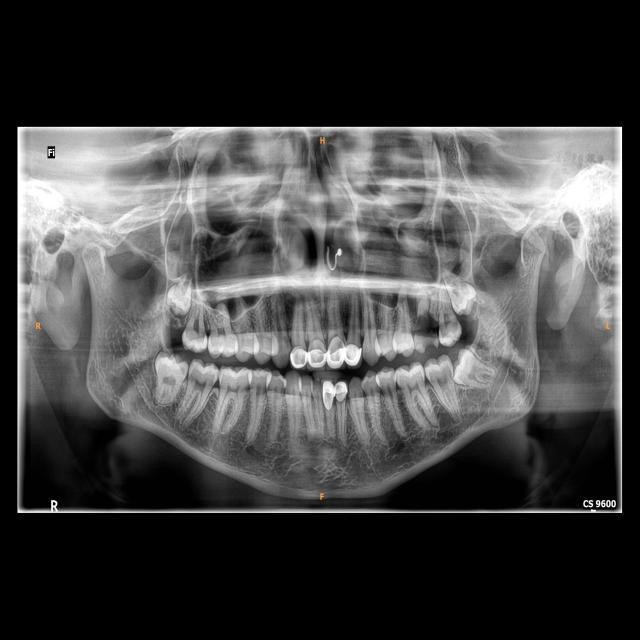dentin-curugu: (415, 313, 439, 340)
kaplama: (324, 338, 344, 366), (341, 342, 362, 364), (320, 381, 337, 408), (306, 346, 328, 366), (291, 344, 307, 370), (333, 379, 348, 400)
